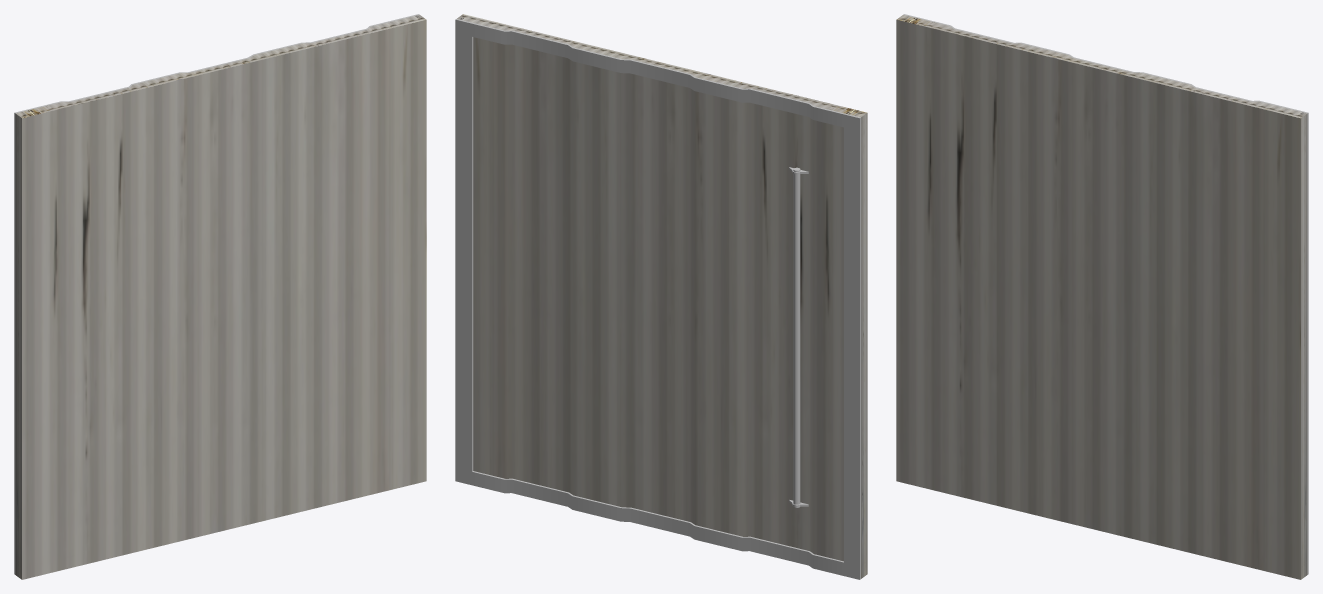
The model's file is MDL_Porta 2.fbx.
3 renders of one model, left to right at view 1: azimuth 30°, elevation 25°; view 2: azimuth 150°, elevation 25°; view 3: azimuth 330°, elevation 25°, orthographic.
Visible parts, largest first — view 1: group3_P2_P; view 2: group3_P2_P; view 3: group3_P2_P.
Part boxes in pixels (x1,y1,x2,y2): group3_P2_P: [14, 14, 426, 579]; group3_P2_P: [455, 14, 867, 579]; group3_P2_P: [896, 14, 1308, 579].
Size of the model in its own units: 4.77 by 5.2 by 0.3351.
